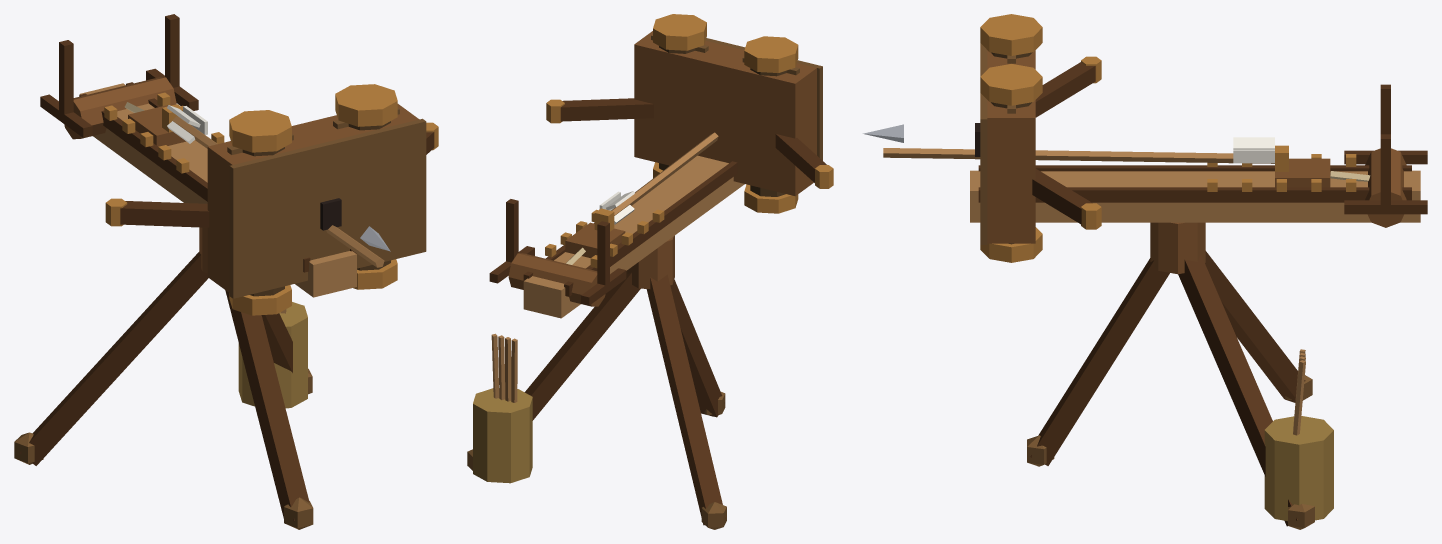
The model's file is balista.glb.
3 renders of one model, left to right at view 1: azimuth 30°, elevation 25°; view 2: azimuth 150°, elevation 25°; view 3: azimuth 270°, elevation 25°, orthographic. The views are drawn at different scales.
Visible parts, largest first — view 1: balista, balista_kolowrot, balista_ramie_l, balista_belt, balista_suwak; view 2: balista, balista_kolowrot, balista_ramie_p, balista_belt, balista_ramie_l, balista_suwak; view 3: balista, balista_kolowrot, balista_belt, balista_suwak, balista_ramie_p, balista_ramie_l.
Boxes of the visible parts, x1=… form: balista: x1=14, y1=82, x2=426, y2=529; balista_kolowrot: x1=40, y1=14, x2=198, y2=139; balista_ramie_l: x1=105, y1=198, x2=209, y2=227; balista_belt: x1=167, y1=105, x2=390, y2=267; balista_suwak: x1=124, y1=102, x2=185, y2=146; balista: x1=467, y1=14, x2=822, y2=529; balista_kolowrot: x1=489, y1=199, x2=626, y2=306; balista_ramie_p: x1=546, y1=98, x2=653, y2=123; balista_belt: x1=599, y1=132, x2=718, y2=224; balista_ramie_l: x1=775, y1=134, x2=833, y2=188; balista_suwak: x1=565, y1=208, x2=625, y2=264; balista: x1=970, y1=14, x2=1420, y2=529; balista_kolowrot: x1=1344, y1=84, x2=1427, y2=227; balista_belt: x1=863, y1=124, x2=1274, y2=163; balista_suwak: x1=1275, y1=145, x2=1370, y2=187; balista_ramie_p: x1=1032, y1=169, x2=1101, y2=229; balista_ramie_l: x1=1035, y1=56, x2=1101, y2=117.
Size of the model in its own units: 1.05 by 1.32 by 1.63.
